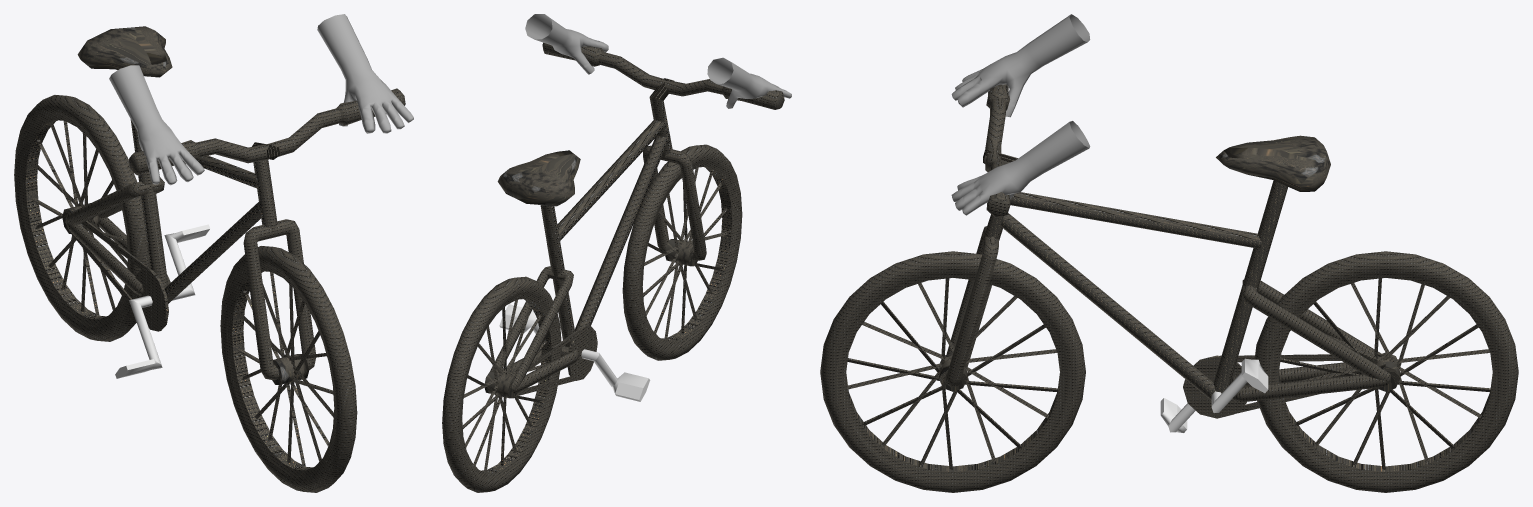
The model's file is MSH_BikeDefault.fbx.
The picture shows the model from 3 angles, left to right: view 1: azimuth 30°, elevation 25°; view 2: azimuth 150°, elevation 25°; view 3: azimuth 270°, elevation 25°; orthographic projection. The views are drawn at different scales.
Parts seen in each view (by area): view 1: MSH_BikeDefault_Frame, MSH_BikeDefault_Tire_Front, MSH_BikeDefault_Tire_Rear, MSH_BikeDefault_Hands, MSH_BikeDefault_Pedals; view 2: MSH_BikeDefault_Frame, MSH_BikeDefault_Tire_Front, MSH_BikeDefault_Tire_Rear, MSH_BikeDefault_Hands, MSH_BikeDefault_Pedals; view 3: MSH_BikeDefault_Frame, MSH_BikeDefault_Tire_Front, MSH_BikeDefault_Tire_Rear, MSH_BikeDefault_Hands, MSH_BikeDefault_Pedals.
Part boxes in pixels (x1,y1,x2,y2): MSH_BikeDefault_Frame: [65, 26, 405, 380]; MSH_BikeDefault_Tire_Front: [220, 246, 357, 492]; MSH_BikeDefault_Tire_Rear: [14, 95, 150, 341]; MSH_BikeDefault_Hands: [109, 14, 413, 185]; MSH_BikeDefault_Pedals: [115, 224, 210, 378]; MSH_BikeDefault_Frame: [490, 42, 784, 396]; MSH_BikeDefault_Tire_Front: [622, 144, 742, 360]; MSH_BikeDefault_Tire_Rear: [442, 276, 561, 492]; MSH_BikeDefault_Hands: [525, 14, 791, 108]; MSH_BikeDefault_Pedals: [499, 304, 650, 401]; MSH_BikeDefault_Frame: [944, 84, 1390, 418]; MSH_BikeDefault_Tire_Front: [820, 251, 1085, 492]; MSH_BikeDefault_Tire_Rear: [1254, 251, 1518, 492]; MSH_BikeDefault_Hands: [951, 14, 1090, 215]; MSH_BikeDefault_Pedals: [1160, 358, 1268, 432].
Bounding box in the file's own units: 99.4 × 143 × 213.
